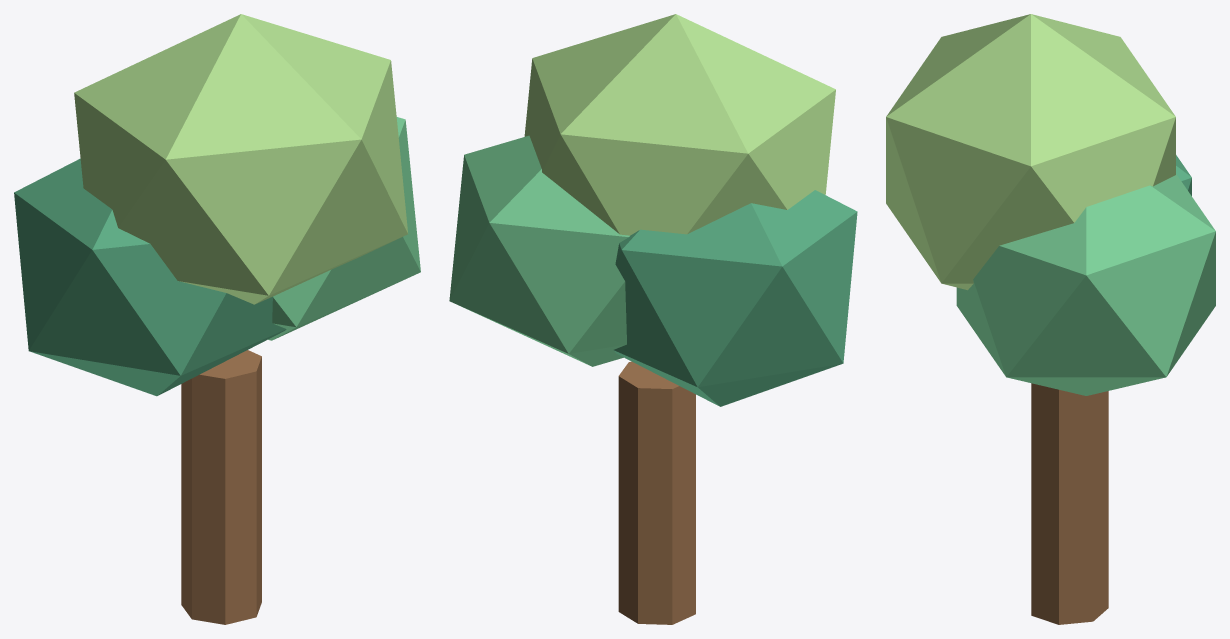
The model's file is NAT_TREE_OAK_1x1_001.glb.
3 renders of one model, left to right at view 1: azimuth 30°, elevation 25°; view 2: azimuth 150°, elevation 25°; view 3: azimuth 270°, elevation 25°, orthographic. The views are drawn at different scales.
Parts seen in each view (by area): view 1: NAT_TREE_OAK_1x1_001_Visual; view 2: NAT_TREE_OAK_1x1_001_Visual; view 3: NAT_TREE_OAK_1x1_001_Visual.
Part boxes in pixels (x1,y1,x2,y2): NAT_TREE_OAK_1x1_001_Visual: (14, 14, 420, 624); NAT_TREE_OAK_1x1_001_Visual: (449, 14, 857, 624); NAT_TREE_OAK_1x1_001_Visual: (886, 14, 1215, 624).
Size of what is drawn, in the model's own units: 1.18 by 1.78 by 0.8943.
